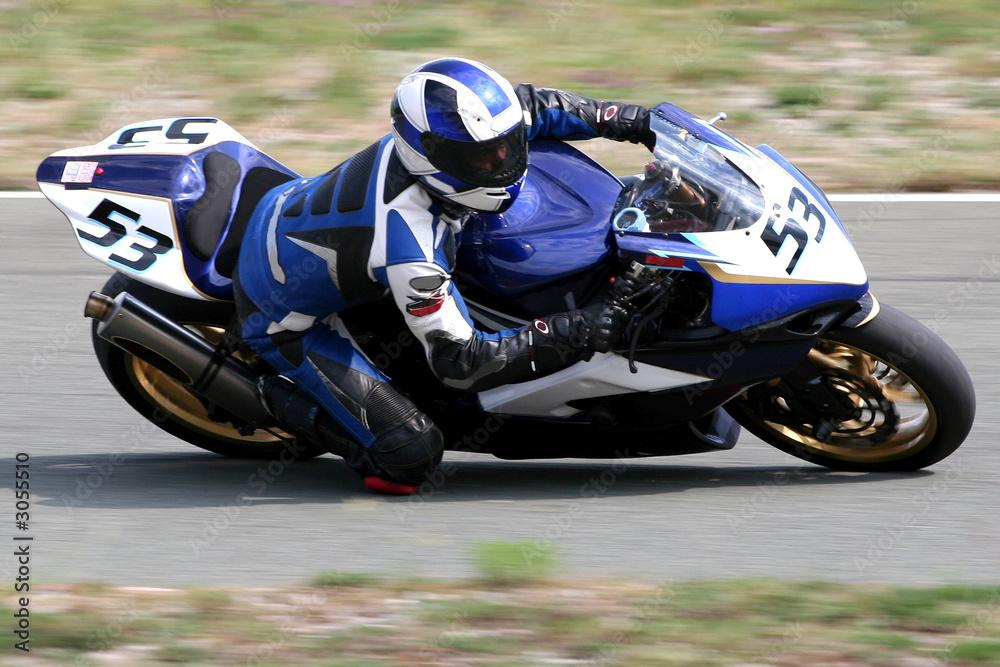helmet: (389, 55, 530, 215)
